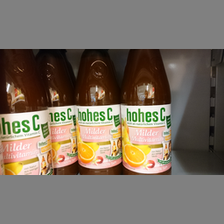juice: (120, 50, 174, 175), (1, 50, 54, 174), (74, 50, 122, 173), (36, 49, 76, 175)
